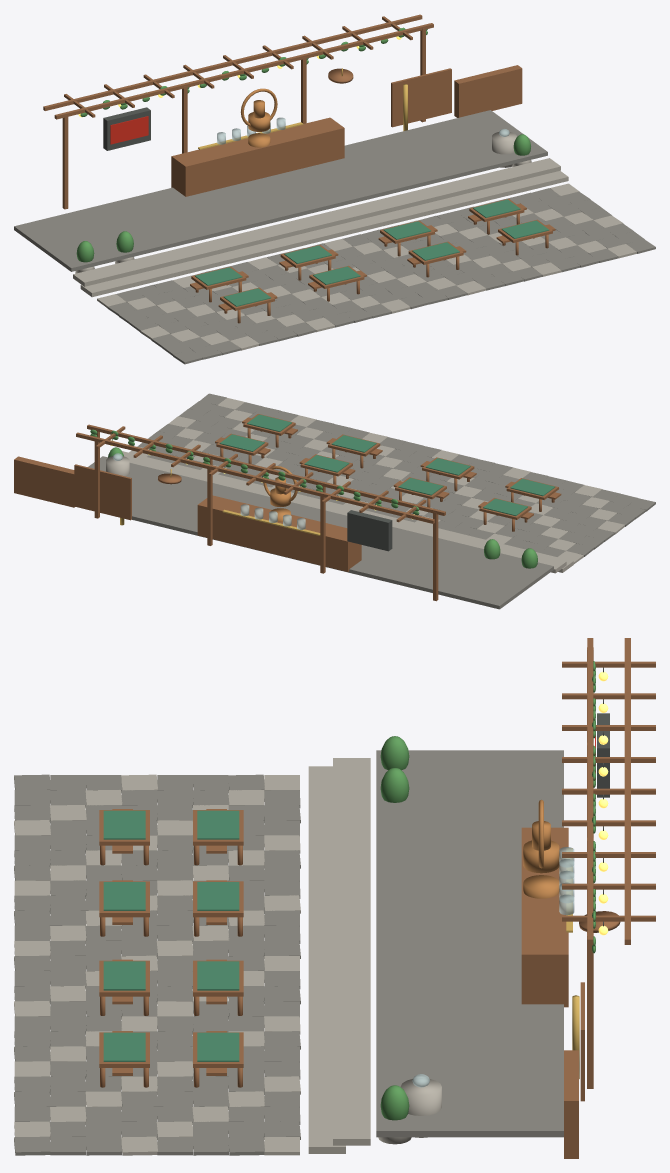
Rendered from mahalle_meydani.glb.
3 views of the same model, one above another, from view 1: azimuth 30°, elevation 25°; view 2: azimuth 150°, elevation 25°; view 3: azimuth 270°, elevation 25° (orthographic). The views are drawn at different scales.
Parts seen in each view (by area): view 1: ÜstTeras, TerasBasamak1, ÇayTezgahı, TerasBasamak0, BakkalReyonu, BerberVitasi, PergolaKiriş.001, PergolaKiriş, EskiTv, TvMaçEkranı, PergolaDirek, Çeşme (+2 smaller); view 2: ÜstTeras, ÇayTezgahı, TerasBasamak1, BakkalReyonu, BerberVitasi, PergolaKiriş.001, PergolaKiriş, EskiTv, TerasBasamak0, PergolaDirek, PergolaDirek.001, PergolaDirek.003 (+11 smaller); view 3: ÜstTeras, TerasBasamak1, TerasBasamak0, ÇayTezgahı, PergolaKiriş.001, PergolaKiriş, BakkalReyonu, YeşilÇuha_0_2, YeşilÇuha_1_2, YeşilÇuha_0_0, YeşilÇuha_0_3, YeşilÇuha_1_0 (+13 smaller).
Part boxes in pixels (<box>): ÜstTeras: <box>14,110,547,271</box>; TerasBasamak1: <box>73,158,560,286</box>; ÇayTezgahı: <box>171,117,344,196</box>; TerasBasamak0: <box>80,171,568,297</box>; BakkalReyonu: <box>454,65,522,117</box>; BerberVitasi: <box>391,68,451,127</box>; PergolaKiriş.001: <box>43,14,422,110</box>; PergolaKiriş: <box>54,23,433,119</box>; EskiTv: <box>103,107,150,150</box>; TvMaçEkranı: <box>110,116,148,144</box>; PergolaDirek: <box>62,115,68,209</box>; Çeşme: <box>492,131,516,167</box>; ÜstTeras: <box>88,456,553,609</box>; ÇayTezgahı: <box>197,495,361,571</box>; TerasBasamak1: <box>107,453,566,573</box>; BakkalReyonu: <box>14,456,74,507</box>; BerberVitasi: <box>74,464,131,520</box>; PergolaKiriş.001: <box>76,432,434,523</box>; PergolaKiriş: <box>87,424,445,515</box>; EskiTv: <box>347,510,392,551</box>; TerasBasamak0: <box>122,451,573,572</box>; PergolaDirek: <box>433,512,438,601</box>; PergolaDirek.001: <box>320,484,325,573</box>; PergolaDirek.003: <box>94,429,99,518</box>; ÜstTeras: <box>376,750,563,1137</box>; TerasBasamak1: <box>333,758,370,1145</box>; TerasBasamak0: <box>308,766,345,1153</box>; ÇayTezgahı: <box>521,827,568,1007</box>; PergolaKiriş.001: <box>624,638,630,944</box>; PergolaKiriş: <box>587,638,593,944</box>; BakkalReyonu: <box>564,1050,578,1158</box>; YeşilÇuha_0_2: <box>103,961,145,990</box>; YeşilÇuha_1_2: <box>197,961,239,990</box>; YeşilÇuha_0_0: <box>103,810,145,839</box>; YeşilÇuha_0_3: <box>103,1032,145,1061</box>; YeşilÇuha_1_0: <box>197,810,239,839</box>.
Size of the model in its own units: 25.6 by 5.6 by 17.09.
